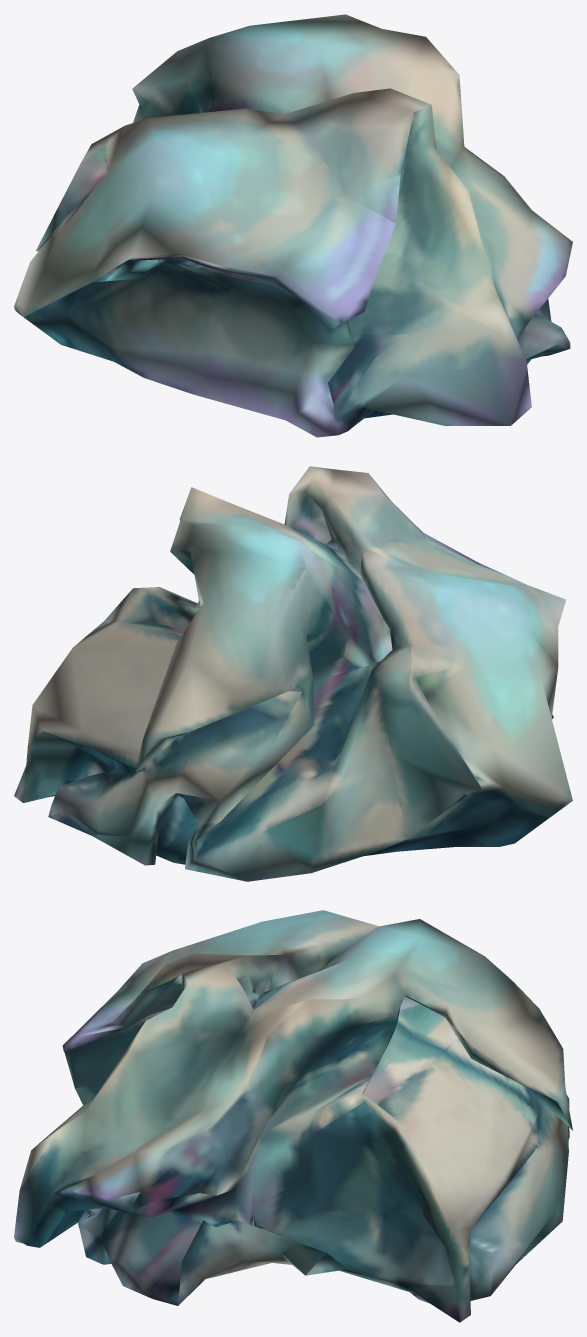
Rendered from trash_paper.fbx.
3 renders of one model, top to bottom at view 1: azimuth 30°, elevation 25°; view 2: azimuth 150°, elevation 25°; view 3: azimuth 270°, elevation 25°, orthographic. The views are drawn at different scales.
Parts seen in each view (by area): view 1: trash_paper; view 2: trash_paper; view 3: trash_paper.
Boxes of the visible parts, x1=… form: trash_paper: x1=14, y1=14, x2=572, y2=437; trash_paper: x1=14, y1=466, x2=572, y2=881; trash_paper: x1=14, y1=910, x2=572, y2=1322.
Bounding box in the file's own units: 0.15 × 0.0821 × 0.1474.
